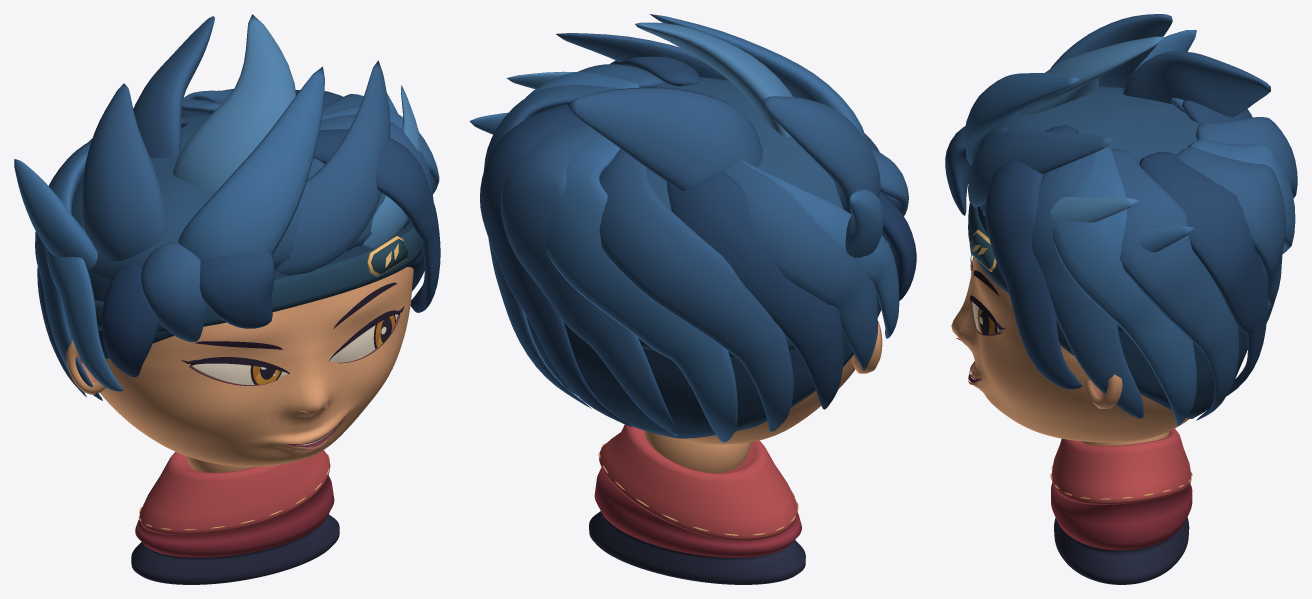
Rendered from indigo-ninja-head.glb.
3 renders of one model, left to right at view 1: azimuth 30°, elevation 25°; view 2: azimuth 150°, elevation 25°; view 3: azimuth 270°, elevation 25°, orthographic. The views are drawn at different scales.
Visible parts, largest first — view 1: Skin | cheek planes and sculpted nose, Scarf | wrapped cloth and standing collar, Lock 04 | Windswept forecrest, Lock 08 | Near crest, Lock 06 | Far crest, Lock 05 | Crown sail, Lock 12 | nape sweep, Hair | swept crown foundation, Lock 22 | nape sweep, Lock 11 | Rear crown, Lock 01 | Forelock, Lock 02 | Split fringe (+15 smaller); view 2: Scarf | wrapped cloth and standing collar, Lock 19 | nape sweep, Lock 18 | nape sweep, Lock 17 | nape sweep, Lock 11 | Rear crown, Lock 20 | nape sweep, Lock 21 | nape sweep, Hair foundation | sculpted undercut, Lock 16 | nape sweep, Lock 06 | Far crest, Hair | swept crown foundation, Lock 05 | Crown sail (+13 smaller); view 3: Scarf | wrapped cloth and standing collar, Skin | cheek planes and sculpted nose, Lock 14 | nape sweep, Lock 15 | nape sweep, Lock 16 | nape sweep, Lock 12 | nape sweep, Lock 13 | nape sweep, Hair | swept crown foundation, Lock 11 | Rear crown, Lock 17 | nape sweep, Lock 08 | Near crest, Lock 04 | Windswept forecrest (+13 smaller).
Part boxes in pixels (x1=…): Skin | cheek planes and sculpted nose: x1=100, y1=267, x2=413, y2=466; Scarf | wrapped cloth and standing collar: x1=131, y1=450, x2=339, y2=584; Lock 04 | Windswept forecrest: x1=178, y1=66, x2=324, y2=260; Lock 08 | Near crest: x1=275, y1=60, x2=390, y2=275; Lock 06 | Far crest: x1=81, y1=83, x2=166, y2=261; Lock 05 | Crown sail: x1=173, y1=14, x2=296, y2=191; Lock 12 | nape sweep: x1=313, y1=129, x2=440, y2=312; Hair | swept crown foundation: x1=71, y1=114, x2=409, y2=279; Lock 22 | nape sweep: x1=45, y1=148, x2=123, y2=391; Lock 11 | Rear crown: x1=133, y1=16, x2=214, y2=158; Lock 01 | Forelock: x1=199, y1=251, x2=274, y2=328; Lock 02 | Split fringe: x1=140, y1=242, x2=207, y2=342; Scarf | wrapped cloth and standing collar: x1=589, y1=424, x2=805, y2=584; Lock 19 | nape sweep: x1=599, y1=149, x2=793, y2=432; Lock 18 | nape sweep: x1=546, y1=135, x2=737, y2=442; Lock 17 | nape sweep: x1=500, y1=124, x2=677, y2=435; Lock 11 | Rear crown: x1=567, y1=87, x2=762, y2=191; Lock 20 | nape sweep: x1=666, y1=171, x2=843, y2=409; Lock 21 | nape sweep: x1=724, y1=161, x2=877, y2=370; Hair foundation | sculpted undercut: x1=526, y1=231, x2=886, y2=438; Lock 16 | nape sweep: x1=480, y1=106, x2=632, y2=427; Lock 06 | Far crest: x1=762, y1=96, x2=880, y2=214; Hair | swept crown foundation: x1=564, y1=77, x2=880, y2=210; Lock 05 | Crown sail: x1=635, y1=22, x2=792, y2=136; Scarf | wrapped cloth and standing collar: x1=1051, y1=428, x2=1192, y2=584; Skin | cheek planes and sculpted nose: x1=951, y1=257, x2=1189, y2=442; Lock 14 | nape sweep: x1=1052, y1=146, x2=1196, y2=425; Lock 15 | nape sweep: x1=1111, y1=148, x2=1239, y2=420; Lock 16 | nape sweep: x1=1139, y1=152, x2=1267, y2=395; Lock 12 | nape sweep: x1=985, y1=125, x2=1082, y2=389; Lock 13 | nape sweep: x1=1031, y1=152, x2=1143, y2=418; Hair | swept crown foundation: x1=978, y1=86, x2=1201, y2=216; Lock 11 | Rear crown: x1=1123, y1=51, x2=1270, y2=117; Lock 17 | nape sweep: x1=1176, y1=147, x2=1285, y2=322; Lock 08 | Near crest: x1=968, y1=127, x2=1114, y2=207; Lock 04 | Windswept forecrest: x1=963, y1=73, x2=1079, y2=165.
Bounding box in the file's own units: 0.9863 × 1.28 × 0.7873.
